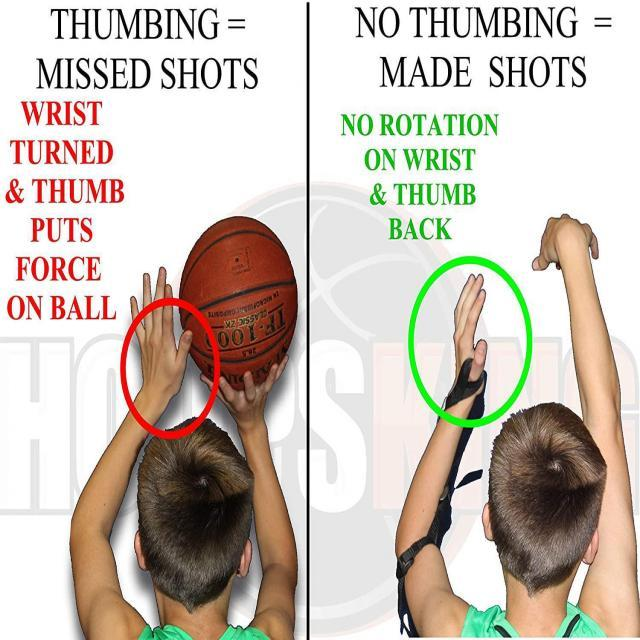Basketball: (178, 217, 298, 393)
